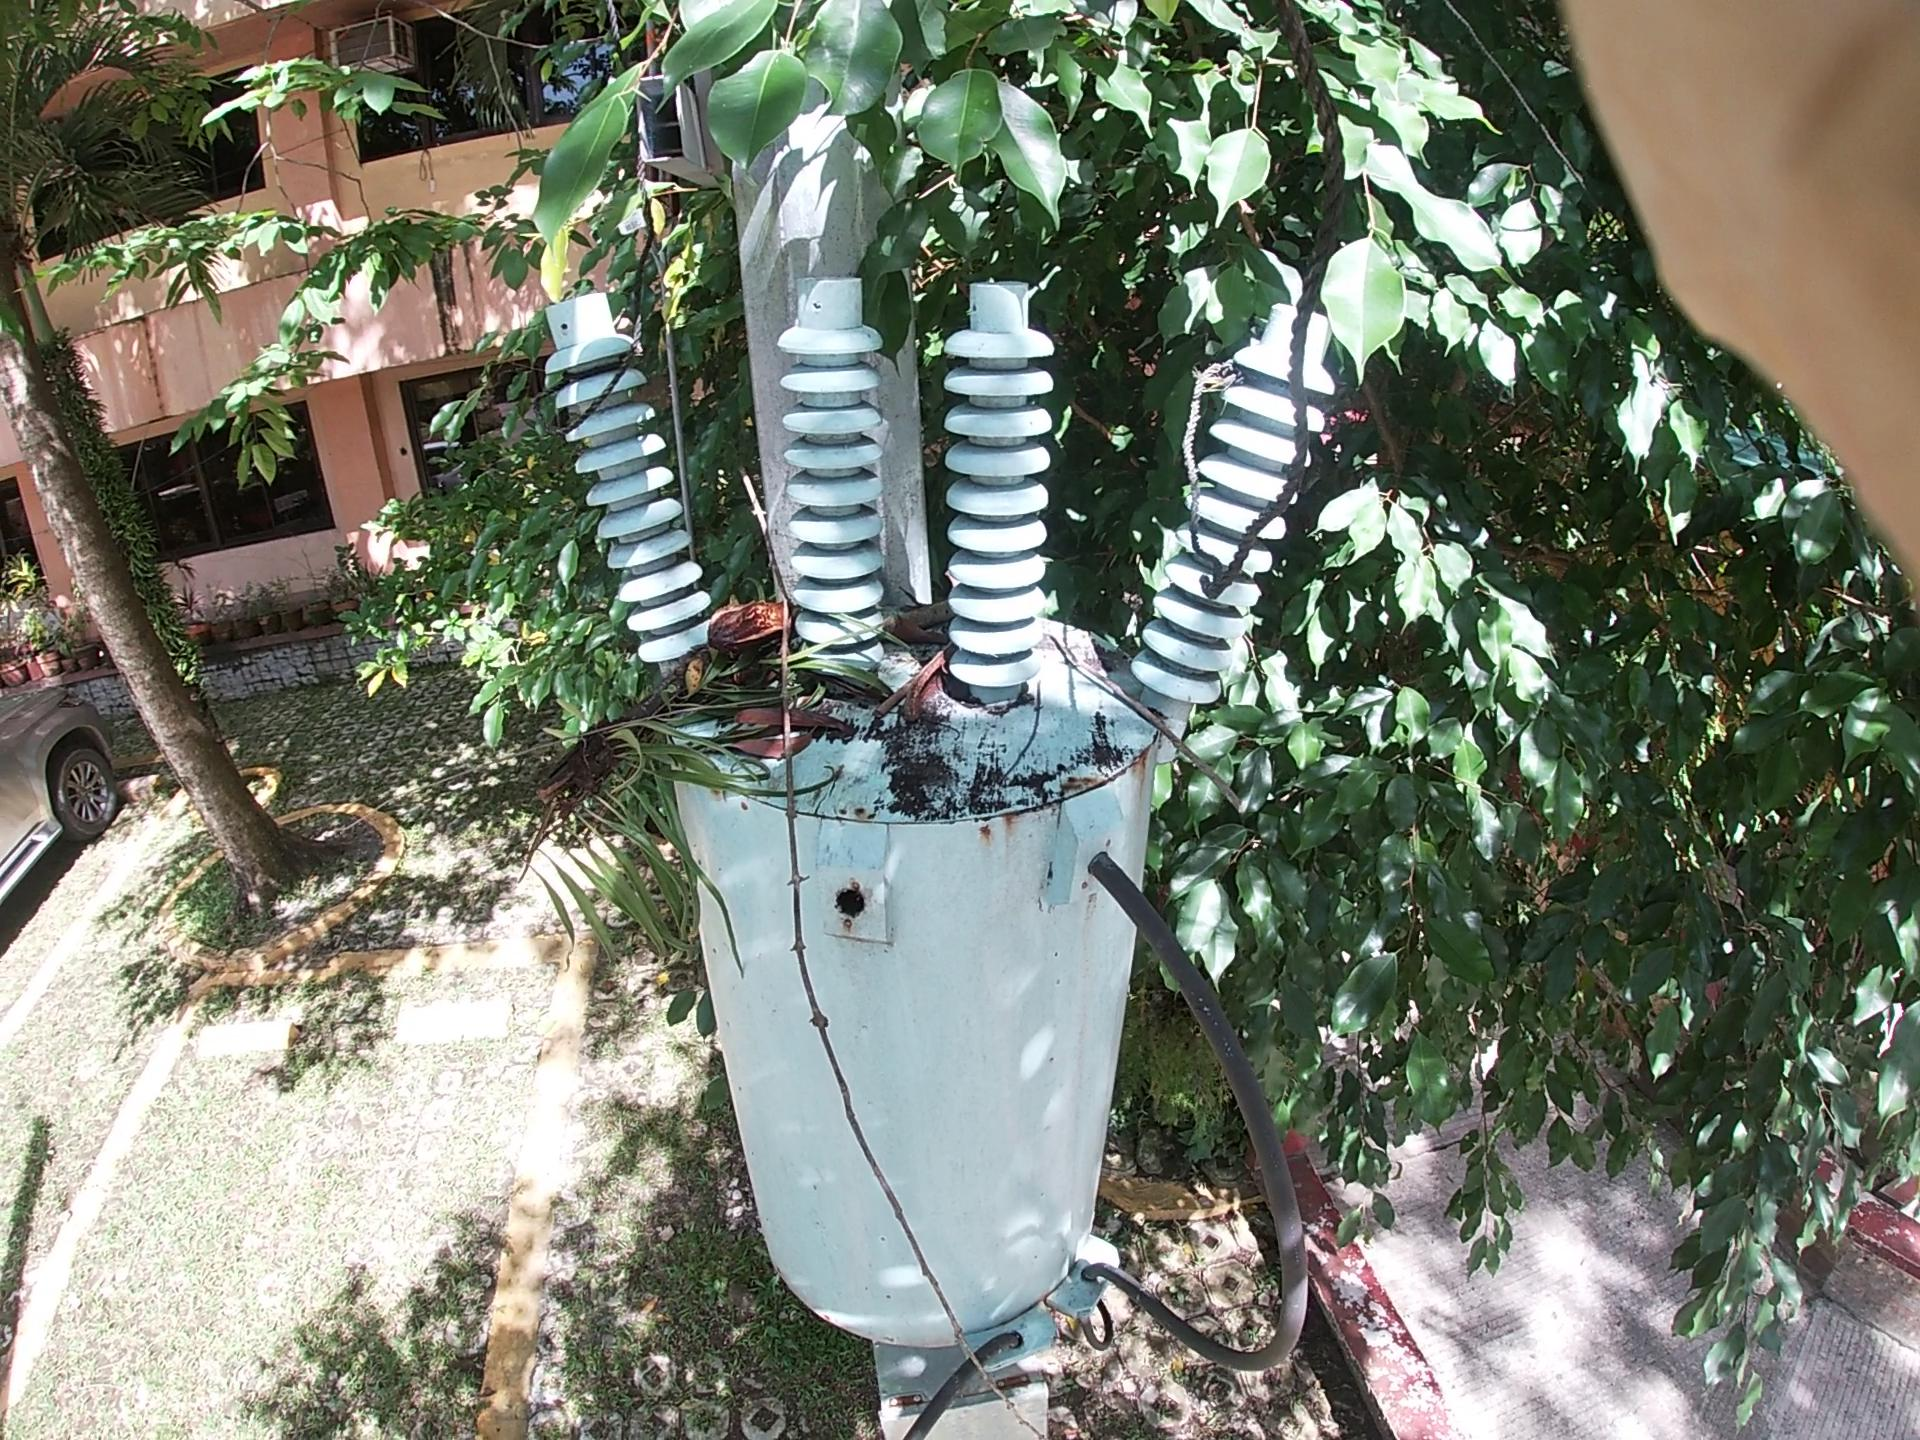branch with leaves: (534, 576, 859, 911)
leaf: (736, 669, 863, 796)
mahogany fruit: (685, 557, 981, 743)
tree branch: (697, 408, 862, 1383), (1034, 607, 1281, 953), (900, 554, 954, 805)
